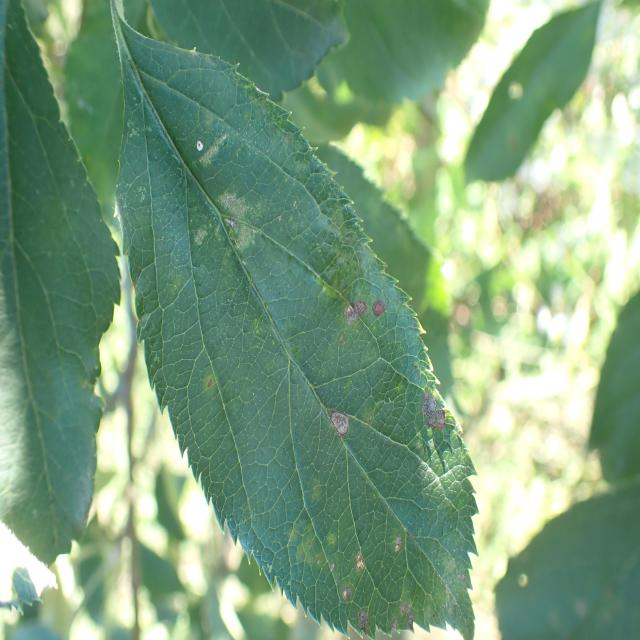frog-eye-leaf-spot: (112, 0, 480, 640)
